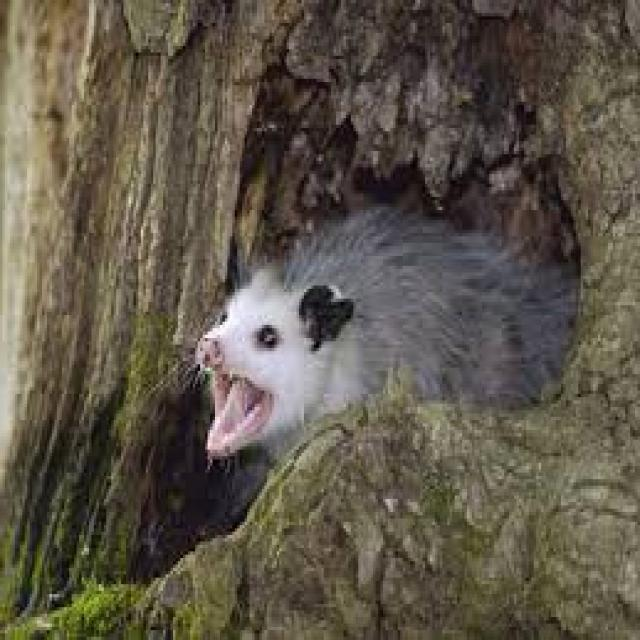possum: (198, 203, 578, 453)
